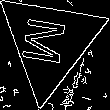M_E: (23, 16, 77, 70)
